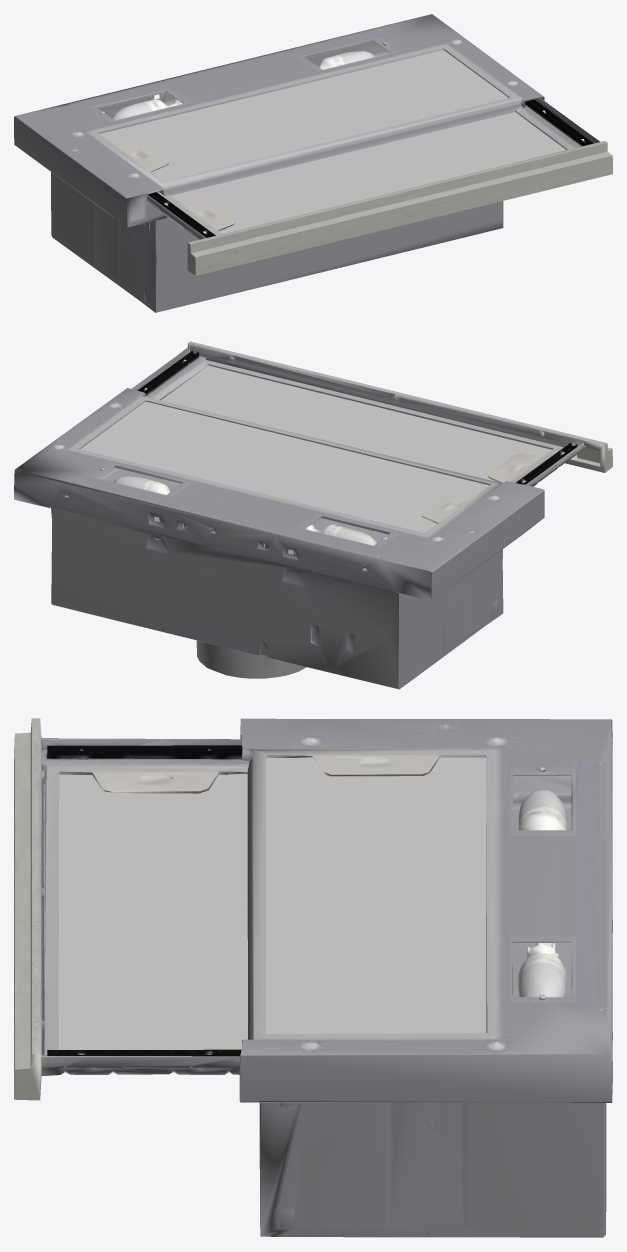
The model's file is 01 - UTDRAG Built-in extractor hood - stainless steel 60 cm.glb.
3 views of the same model, one above another, from view 1: azimuth 30°, elevation 25°; view 2: azimuth 150°, elevation 25°; view 3: azimuth 270°, elevation 25° (orthographic). The views are drawn at different scales.
Visible parts, largest first — view 1: ProcessedMeshNode, 2; view 2: ProcessedMeshNode, 2; view 3: ProcessedMeshNode, 2.
Part boxes in pixels (x1,y1,x2,y2): ProcessedMeshNode: [14, 14, 612, 312]; 2: [99, 41, 565, 233]; ProcessedMeshNode: [14, 341, 612, 689]; 2: [80, 365, 551, 533]; ProcessedMeshNode: [14, 718, 612, 1237]; 2: [58, 757, 570, 1049].
Bounding box in the file's own units: 0.5994 × 0.2226 × 0.4506.
Materials: 2 (2 with a texture image).
